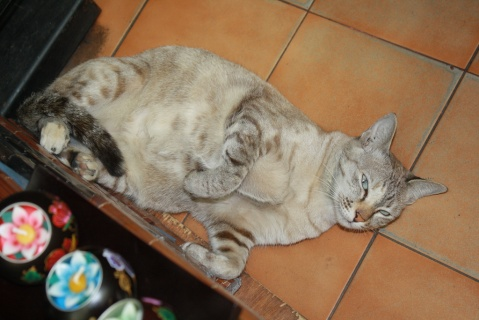Cat: (15, 43, 448, 280)
